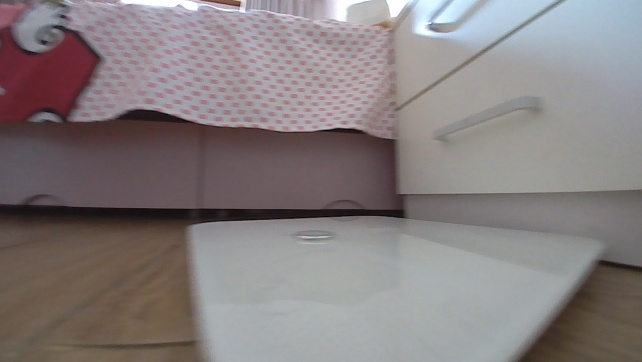bed1: (0, 0, 406, 216)
cabinet: (387, 0, 640, 269)
weight_scale: (184, 214, 604, 361)
